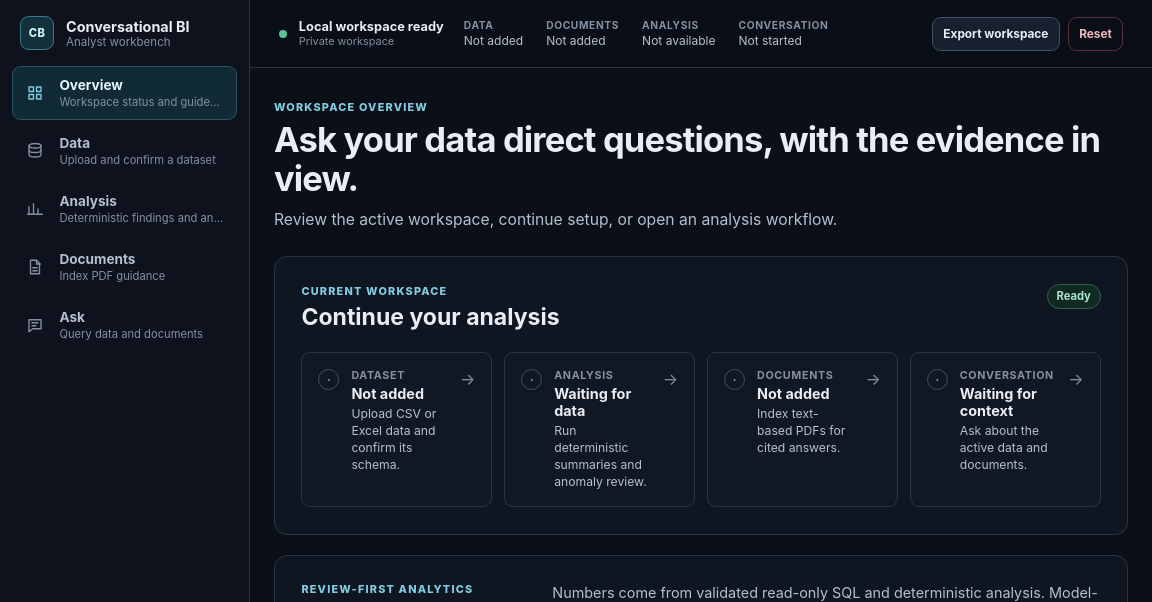
Scenario: tabular analysis journey › shows a safe error when the export fails
The image size is (1152, 602).
Check: the text "Local workspace ready" is shown, box x1=299 y1=19 x2=444 y2=34
What coordinates should you click on to do the following:
click the button "Export workspace"
I would click on:
 (996, 34)
Its box is x1=932 y1=16 x2=1060 y2=50.
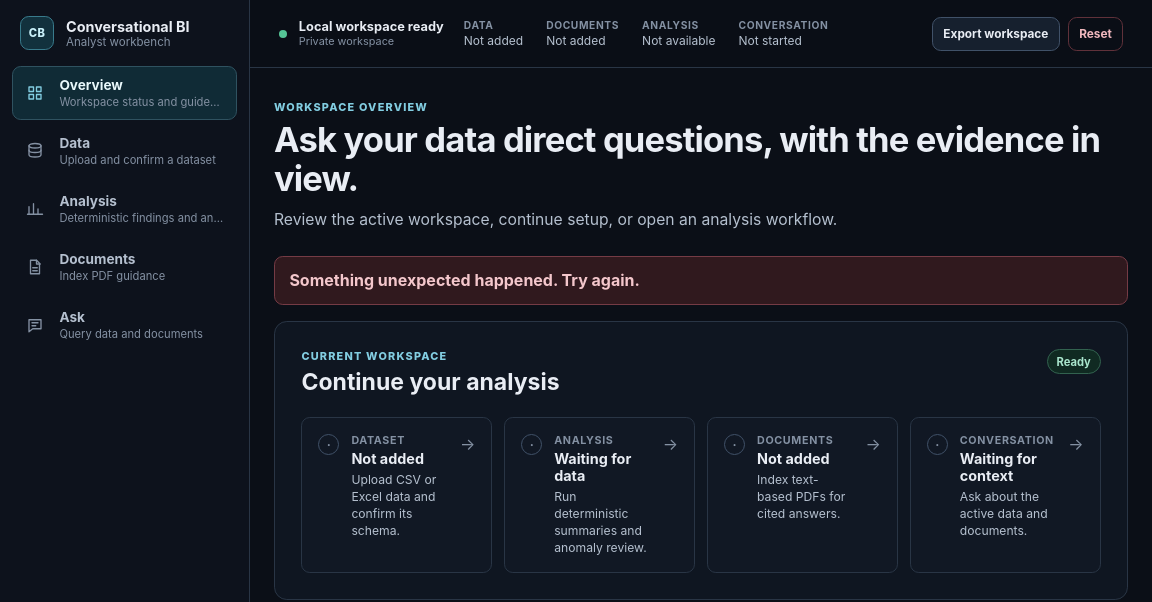
Check: the message "Something unexpected happened. Try again." is shown, box x1=274 y1=256 x2=1128 y2=305
